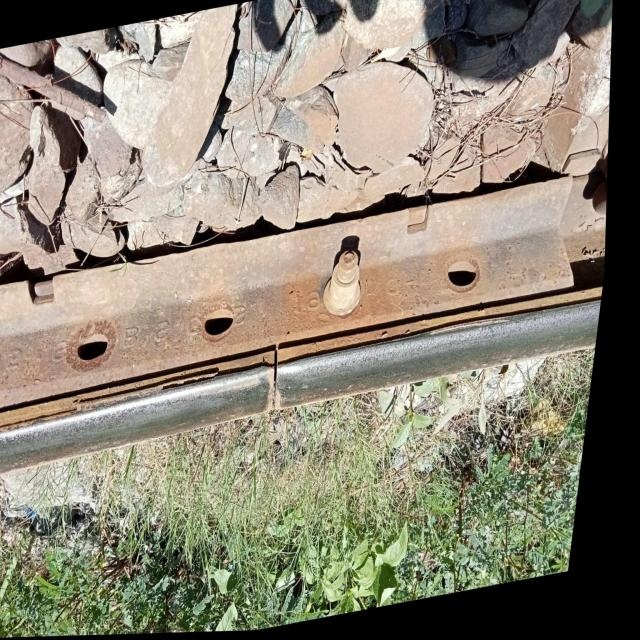obstacle: (175, 280, 262, 356), (56, 321, 126, 391), (425, 242, 494, 301)
